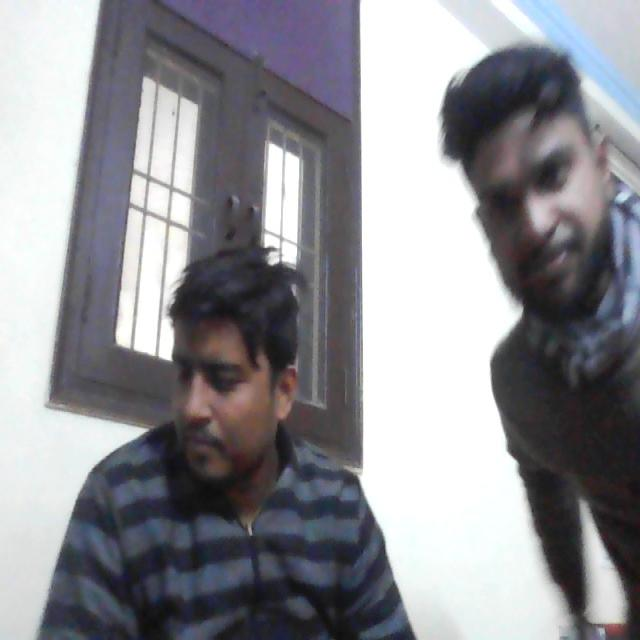real: (474, 51, 612, 310), (160, 255, 292, 504)
